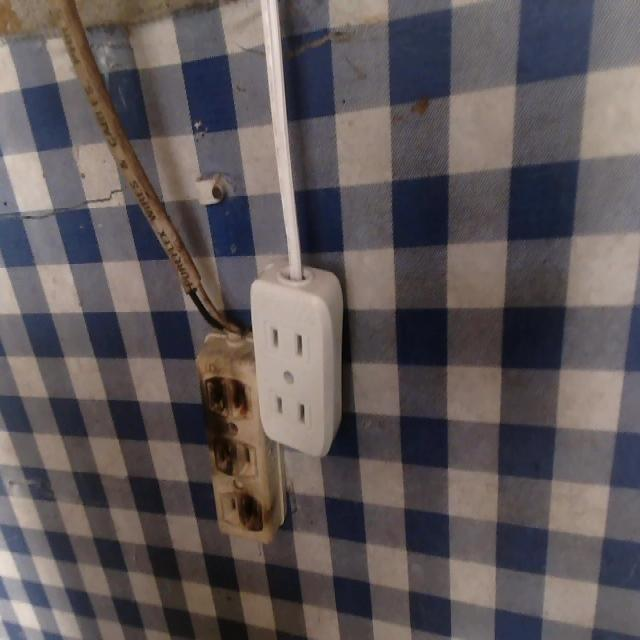-: (200, 368, 252, 428), (229, 482, 266, 538), (210, 435, 240, 481)
